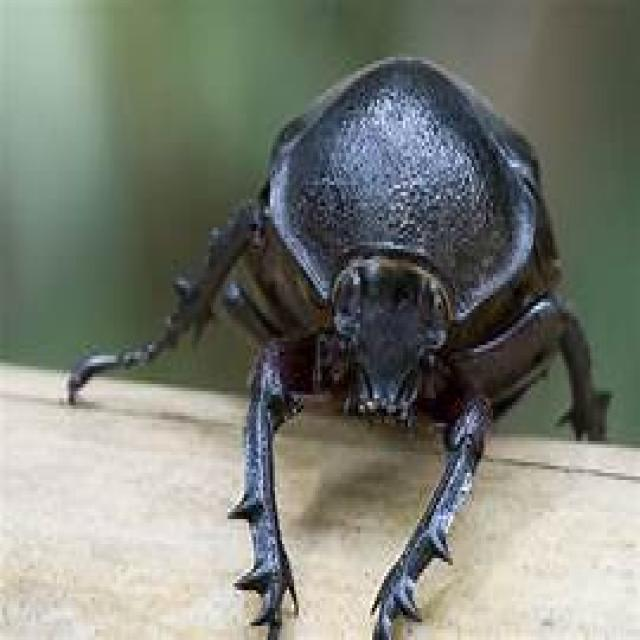Rhino-beetle: (148, 49, 600, 616)
